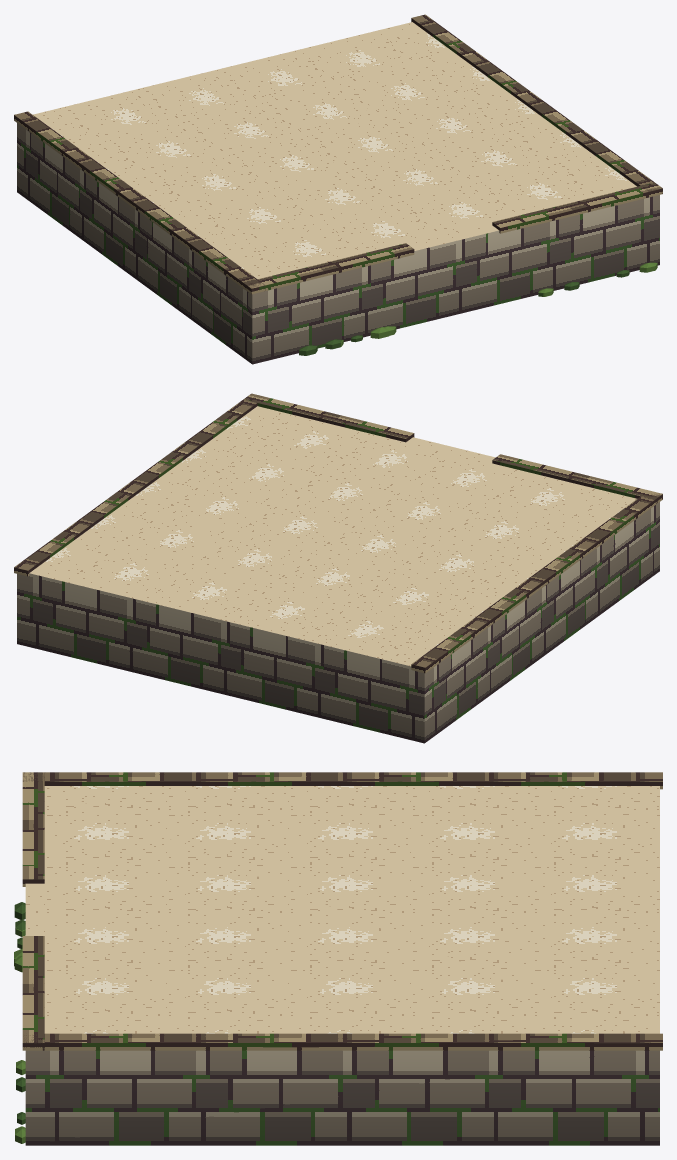
The model's file is scene_crown.glb.
3 renders of one model, top to bottom at view 1: azimuth 30°, elevation 25°; view 2: azimuth 150°, elevation 25°; view 3: azimuth 270°, elevation 25°, orthographic. The views are drawn at different scales.
Parts seen in each view (by area): view 1: scene_crown; view 2: scene_crown; view 3: scene_crown.
Part boxes in pixels (bbox=[...]): scene_crown: bbox=[14, 14, 662, 364]; scene_crown: bbox=[14, 393, 662, 743]; scene_crown: bbox=[14, 772, 662, 1145].
Bounding box in the file's own units: 10.5 × 1.97 × 10.64.
3 materials, 2 textured.
